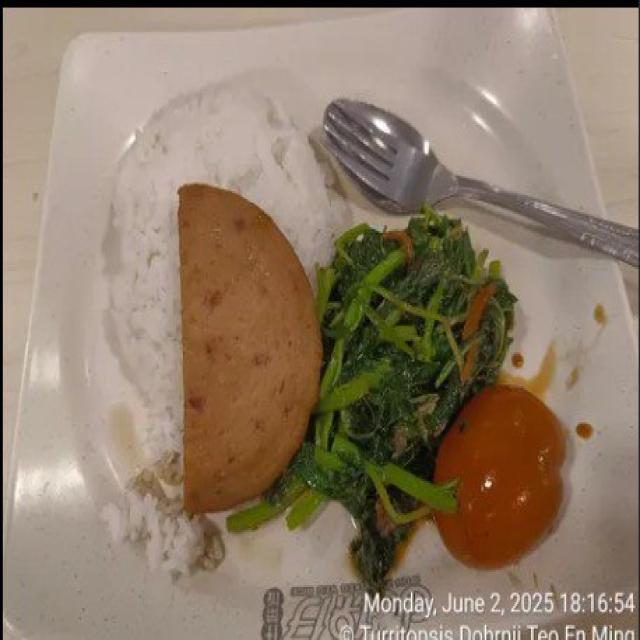Green veg: (228, 208, 516, 587)
Pork: (179, 184, 320, 513)
Rice: (103, 83, 351, 576)
